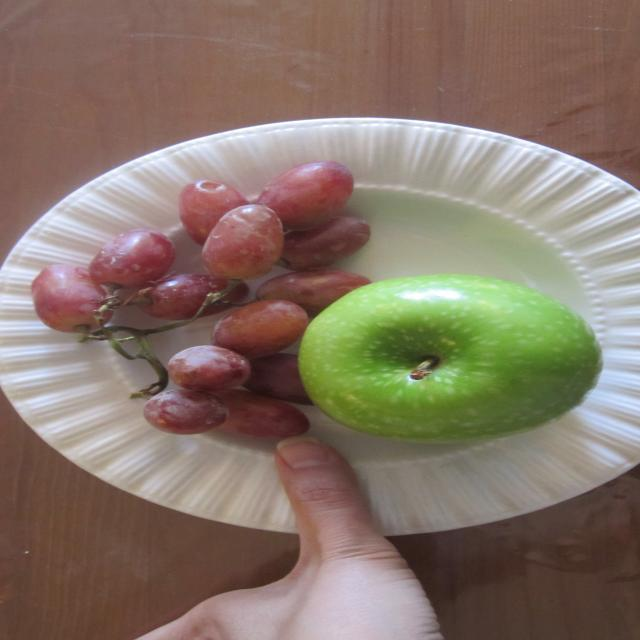Apple: (301, 270, 610, 444)
Finger: (262, 436, 392, 526)
Grapes: (22, 155, 304, 428)
